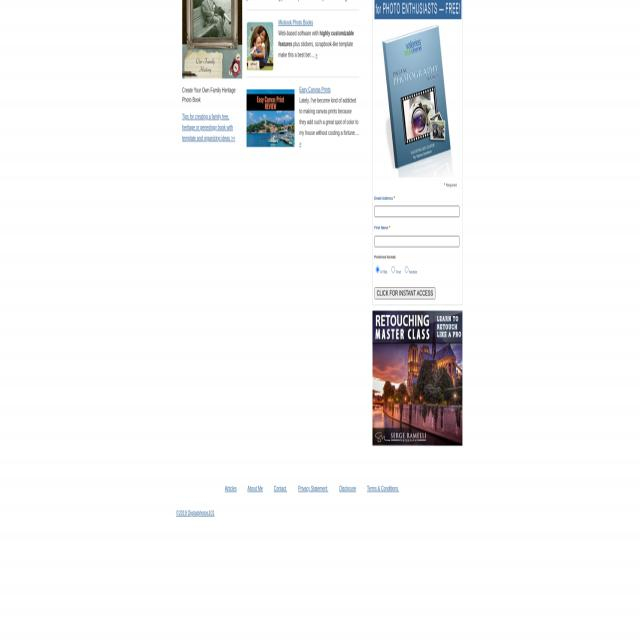button: (374, 0, 461, 177), (372, 311, 462, 446), (182, 0, 242, 79), (247, 84, 294, 148), (246, 17, 274, 72), (374, 289, 436, 300)
field: (374, 236, 460, 248), (374, 207, 460, 218), (376, 265, 388, 277), (406, 266, 418, 277), (391, 266, 401, 275)
